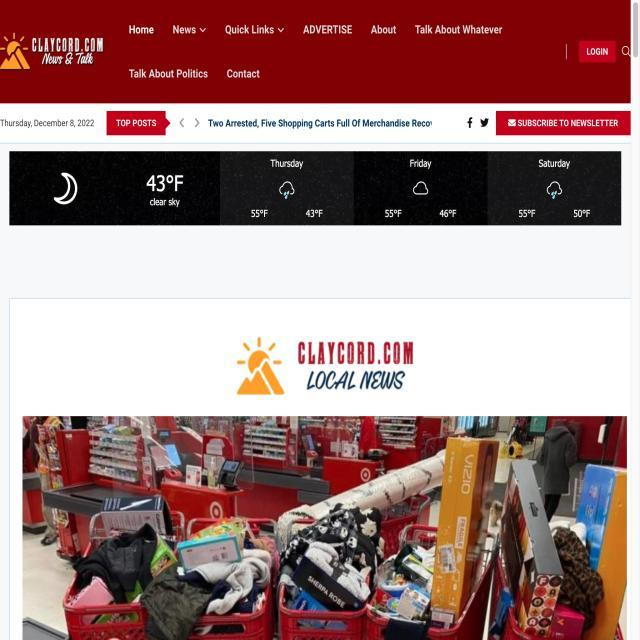button: (494, 109, 632, 138), (577, 38, 618, 66)
